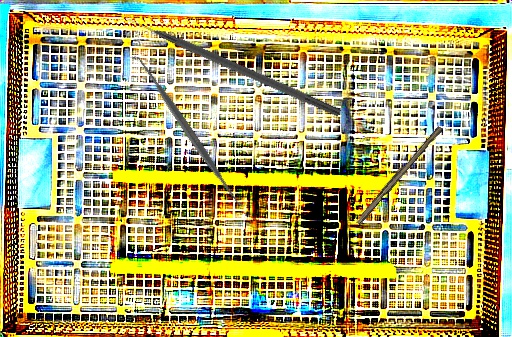Hook Surgical: (118, 9, 343, 119)
Scalpel Handle: (353, 123, 444, 227)
Spatula Surgical: (127, 47, 248, 214)
